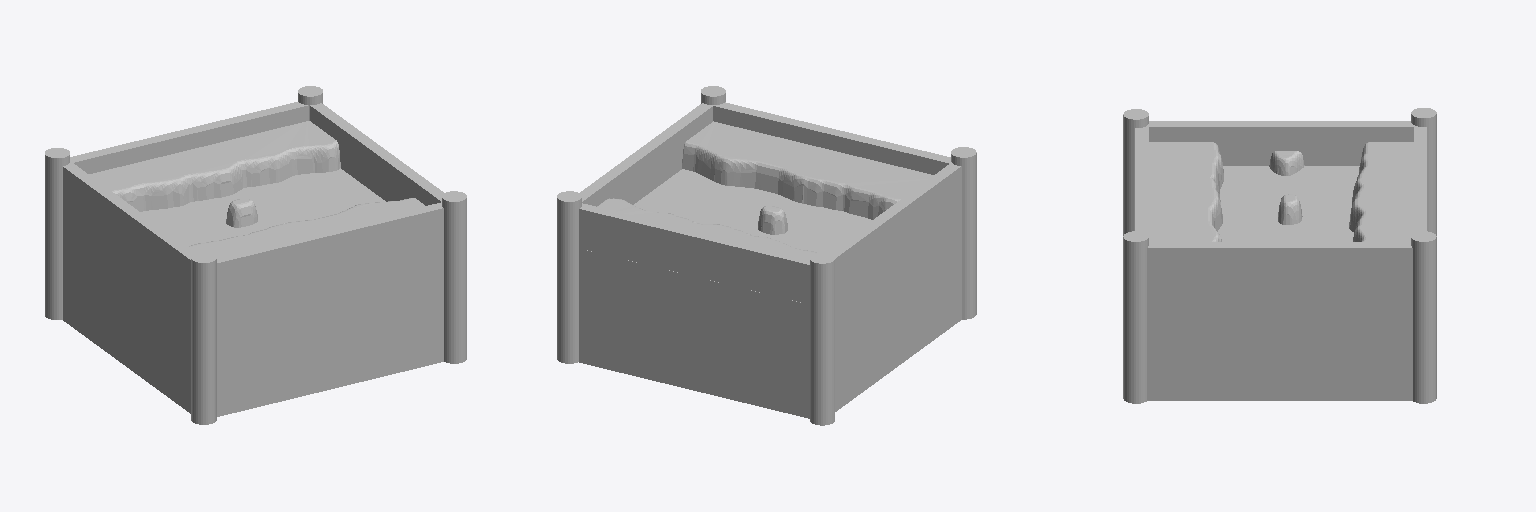
Rendered from map.obj.
3 views of the same model, side by side, from view 1: azimuth 30°, elevation 25°; view 2: azimuth 150°, elevation 25°; view 3: azimuth 270°, elevation 25° (orthographic).
Parts seen in each view (by area): view 1: Plane; view 2: Plane; view 3: Plane.
Boxes of the visible parts, box(x1,y1,x2,y2) form: Plane: box(45, 86, 466, 424); Plane: box(557, 86, 976, 425); Plane: box(1123, 108, 1436, 403).
Bounding box in the file's own units: 2.28 × 1.29 × 2.25.